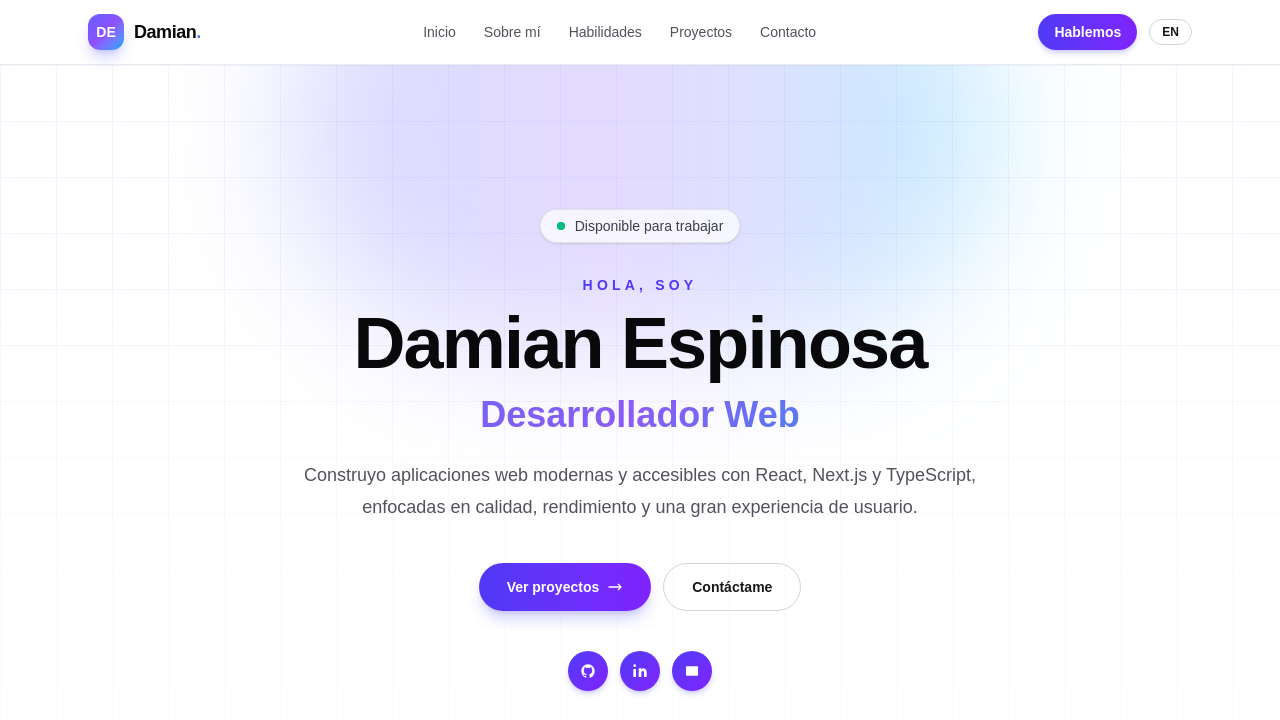
Test case: Hero › cambia el contenido al alternar idioma
The width and height of the screenshot is (1280, 720).
Click the button with aria-label "Cambiar a inglés".
click(1171, 32)  # box 1149,19 -> 1192,45
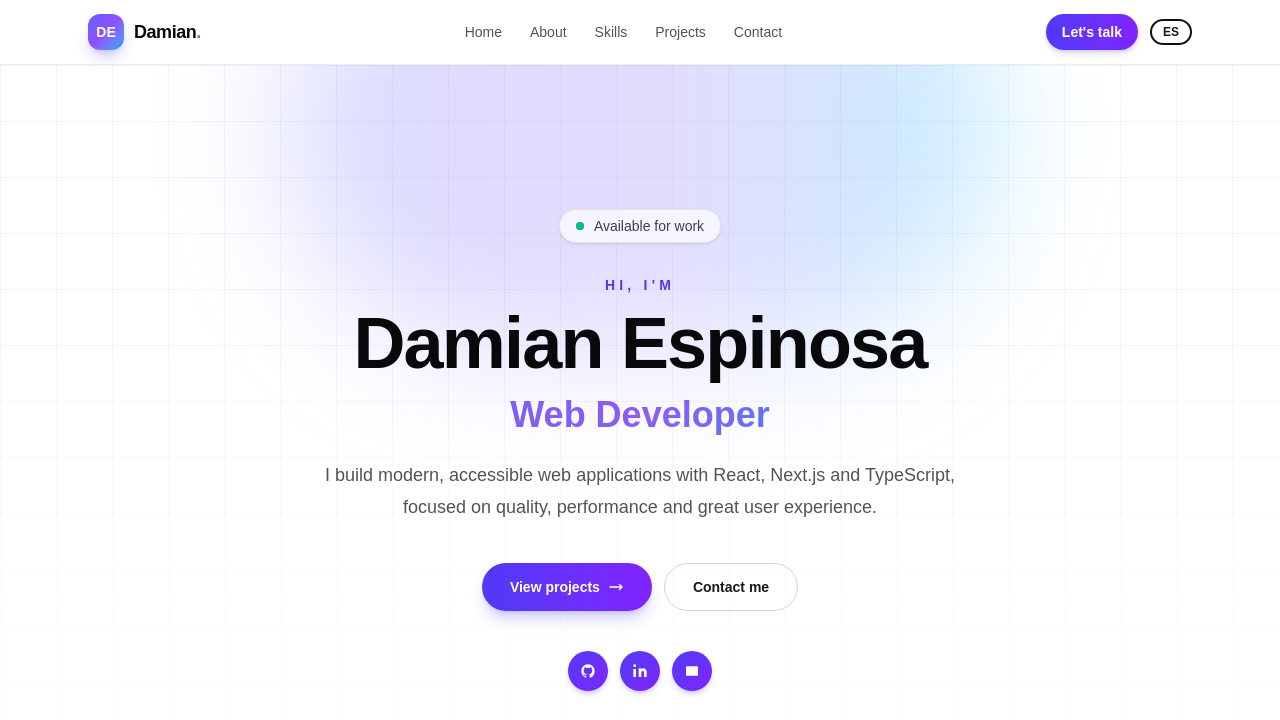
Expected: the heading "Damian Espinosa" is shown, 353,303 -> 927,383
Result: the text "I build modern, accessible web applications with React, Next.js and TypeScript, focused on quality, performance and grea" is shown at 325,465 -> 955,517
